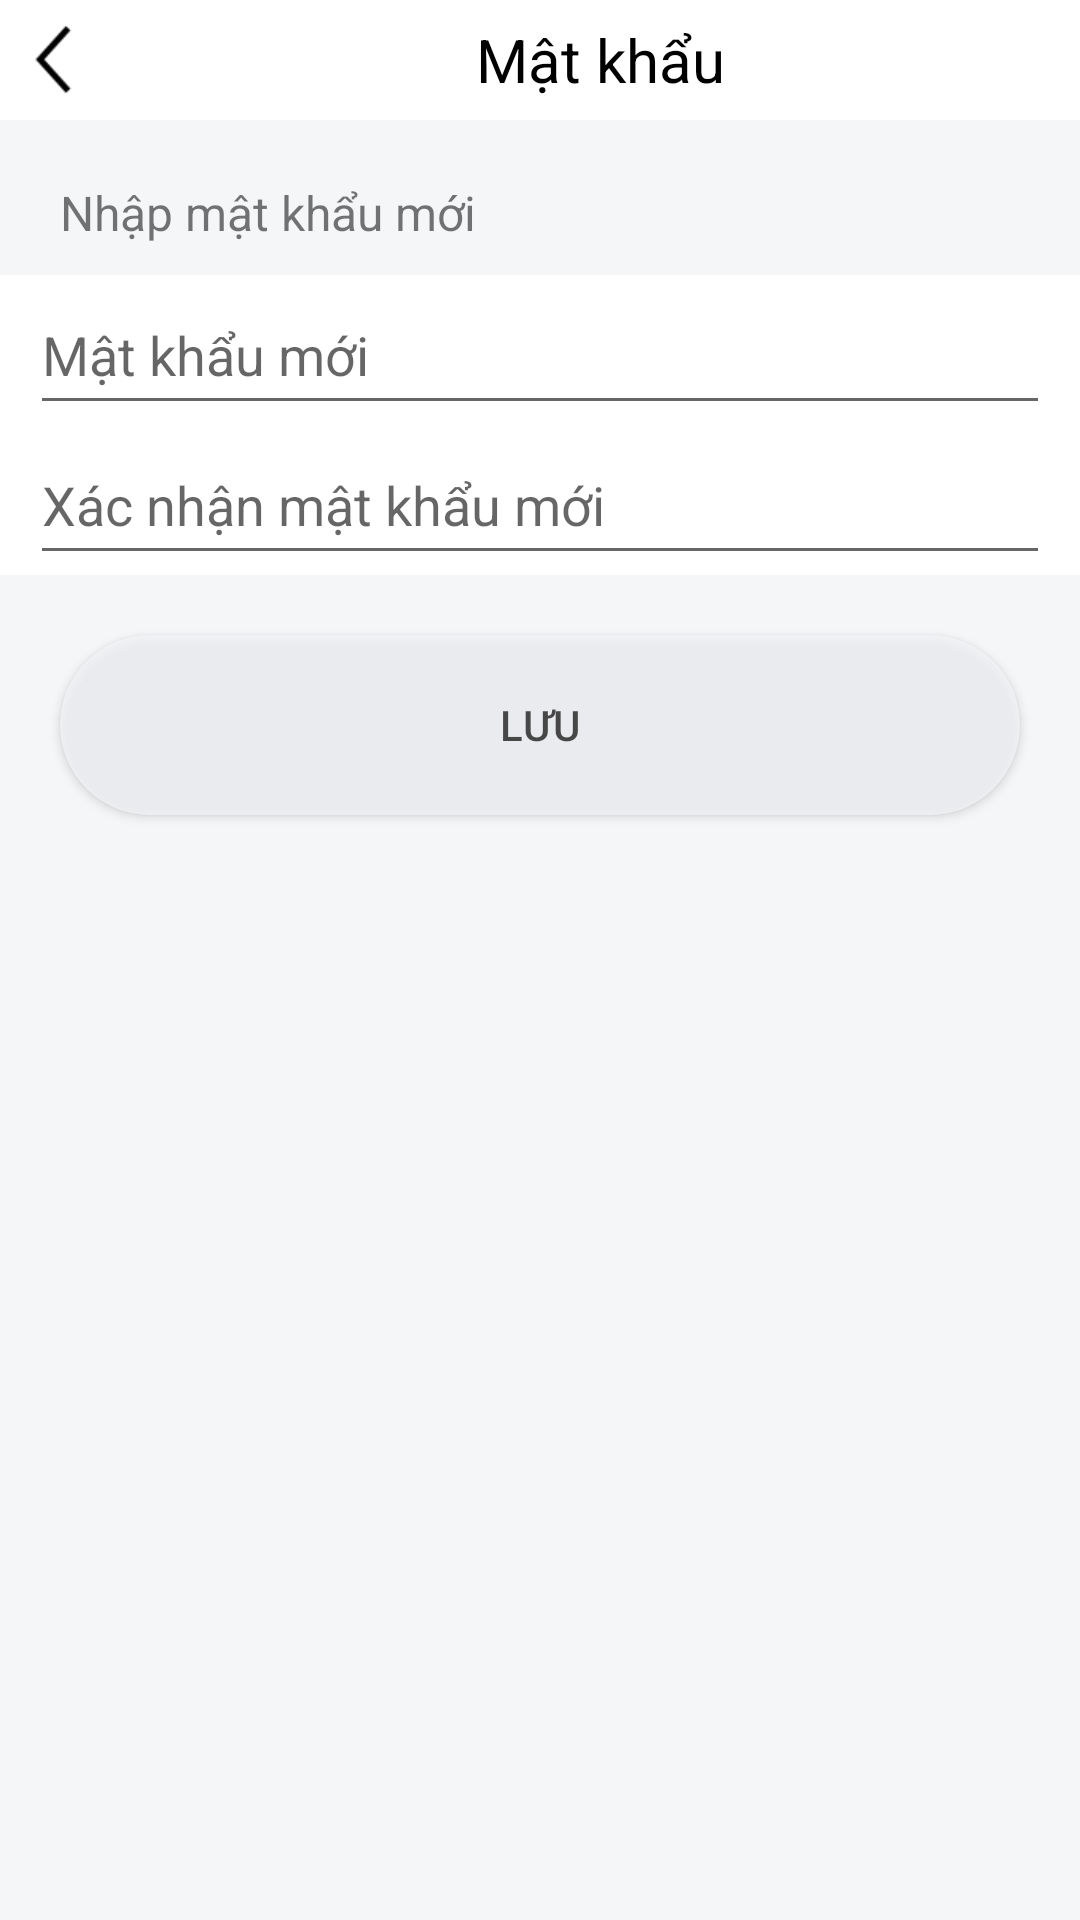

Icon click points for this 1080×1920 phone screenshot, format (x=x, y=y):
back: (x=53, y=59)
